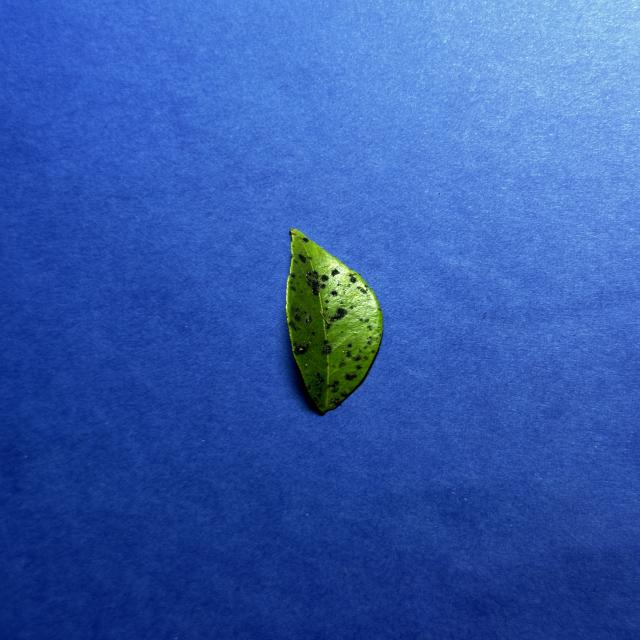sooty_mold: (286, 229, 382, 414)
